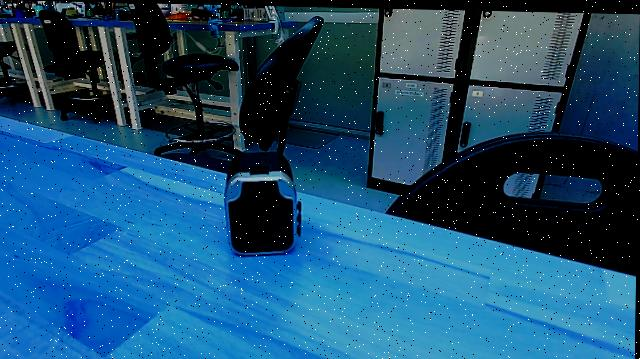adapter: (215, 144, 309, 257)
